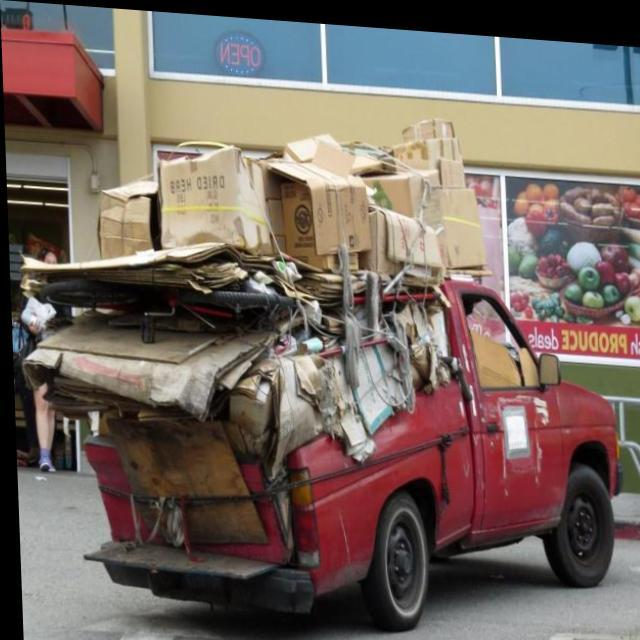uncovered: (47, 112, 580, 640)
